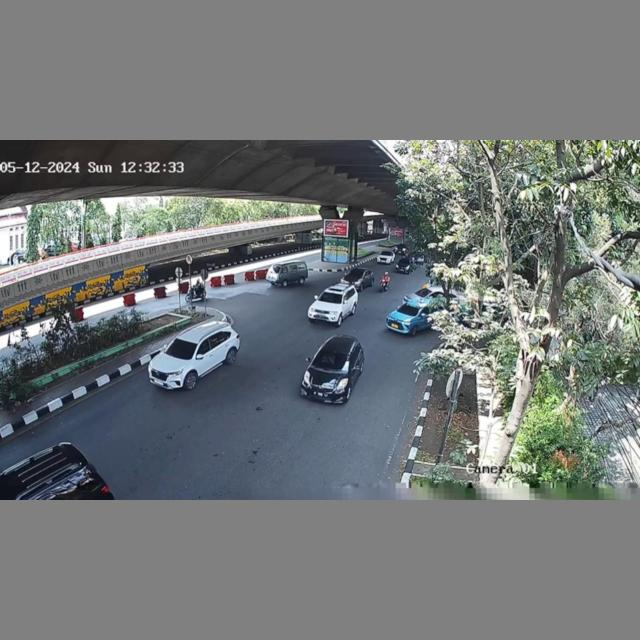windshield: (313, 349, 349, 370), (164, 338, 199, 359), (314, 289, 343, 307)
